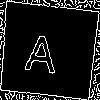A: (24, 25, 61, 74)
